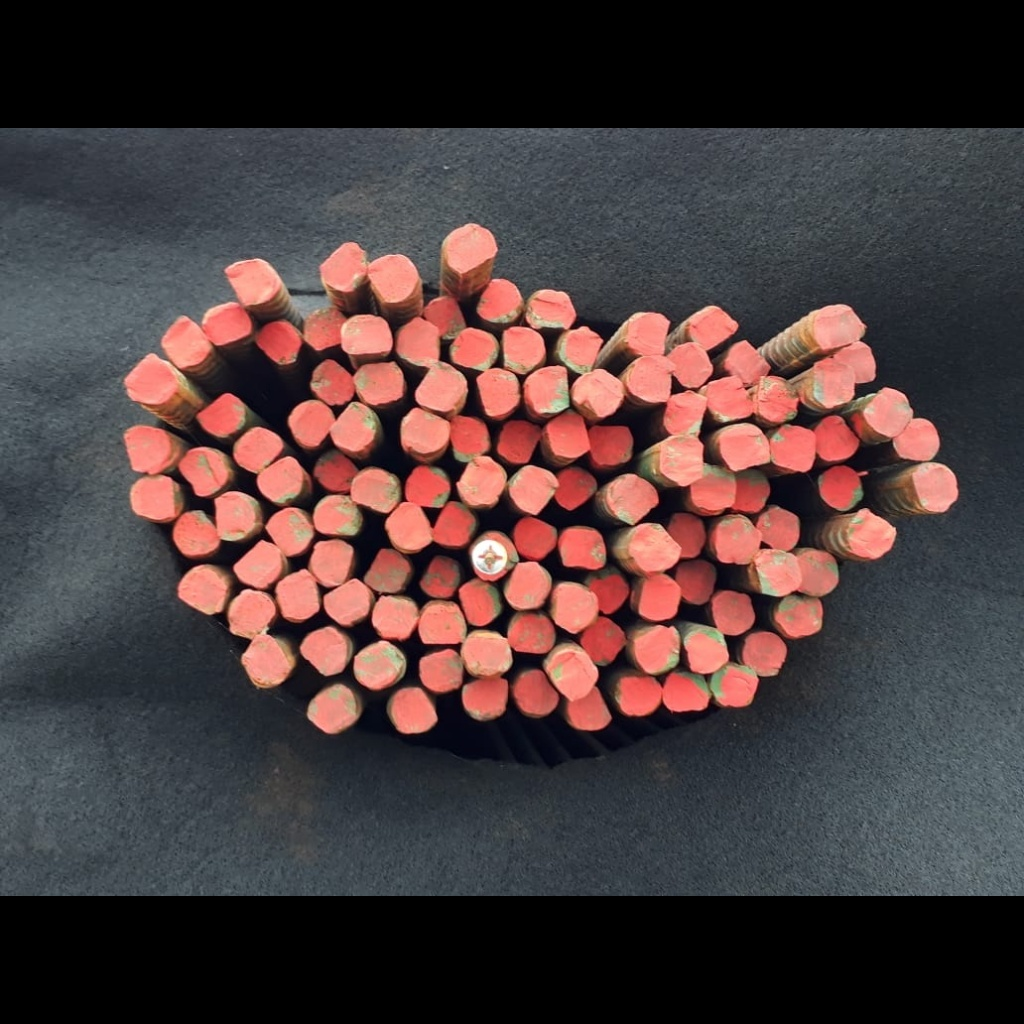dipstick: (443, 224, 497, 274), (124, 354, 179, 403), (225, 258, 279, 306), (241, 636, 291, 687), (307, 683, 357, 734), (415, 363, 467, 411), (469, 532, 519, 581), (629, 523, 679, 572), (608, 474, 657, 524), (162, 316, 210, 367), (177, 448, 228, 496), (227, 589, 275, 639), (865, 387, 913, 437), (848, 509, 896, 559), (551, 582, 598, 633), (457, 456, 506, 504), (548, 651, 597, 699), (353, 643, 403, 690), (510, 465, 557, 515), (912, 462, 958, 513), (124, 425, 171, 474), (265, 507, 312, 556), (233, 540, 282, 587), (369, 255, 418, 302), (580, 617, 627, 666), (573, 370, 623, 416), (720, 425, 770, 471), (233, 427, 284, 472), (299, 627, 346, 675), (385, 502, 432, 550), (351, 467, 400, 513), (331, 402, 377, 451), (321, 242, 367, 291), (400, 408, 449, 454), (713, 518, 761, 564), (395, 317, 439, 367), (702, 376, 752, 420), (661, 435, 704, 486), (172, 510, 219, 556), (288, 400, 334, 447), (512, 669, 559, 715), (627, 355, 673, 402), (770, 425, 816, 472), (363, 548, 411, 593), (634, 625, 679, 673), (688, 306, 737, 350), (202, 302, 252, 345), (460, 634, 512, 675), (323, 579, 369, 625), (504, 562, 550, 608), (755, 550, 801, 596), (390, 688, 437, 733), (475, 278, 522, 323), (710, 663, 758, 707), (814, 304, 862, 348), (690, 463, 735, 509), (817, 465, 862, 511), (129, 475, 176, 519), (178, 569, 225, 613), (525, 366, 569, 413), (813, 416, 860, 460), (276, 570, 318, 619), (341, 314, 392, 354), (725, 340, 770, 385), (476, 369, 520, 415), (636, 575, 680, 621), (546, 411, 589, 458), (197, 394, 245, 436), (450, 328, 498, 370), (559, 327, 601, 375), (813, 360, 855, 408), (215, 492, 256, 541), (257, 457, 302, 501), (458, 580, 502, 625), (566, 686, 611, 730), (372, 596, 418, 639), (894, 418, 940, 461), (558, 528, 605, 570), (664, 390, 706, 437), (314, 495, 362, 536), (775, 595, 823, 636), (354, 363, 404, 402), (311, 359, 355, 403), (496, 420, 540, 464), (743, 632, 787, 676), (256, 320, 301, 363), (513, 517, 558, 560), (684, 628, 727, 673), (554, 465, 596, 511), (418, 650, 464, 692), (755, 376, 797, 422), (503, 327, 544, 374), (419, 604, 466, 645), (525, 289, 575, 327), (422, 297, 466, 340), (756, 507, 799, 551), (311, 540, 353, 585), (670, 343, 712, 388), (797, 550, 838, 596), (626, 313, 669, 356), (434, 502, 476, 546), (712, 591, 754, 635), (405, 466, 450, 507), (462, 679, 508, 719), (615, 675, 661, 715), (676, 559, 716, 605), (450, 415, 489, 462), (509, 614, 555, 653), (663, 672, 709, 711), (667, 512, 706, 558), (419, 555, 460, 598), (585, 575, 630, 614), (731, 468, 770, 513), (315, 451, 357, 492), (303, 309, 345, 350), (588, 425, 632, 464), (835, 341, 875, 382)
